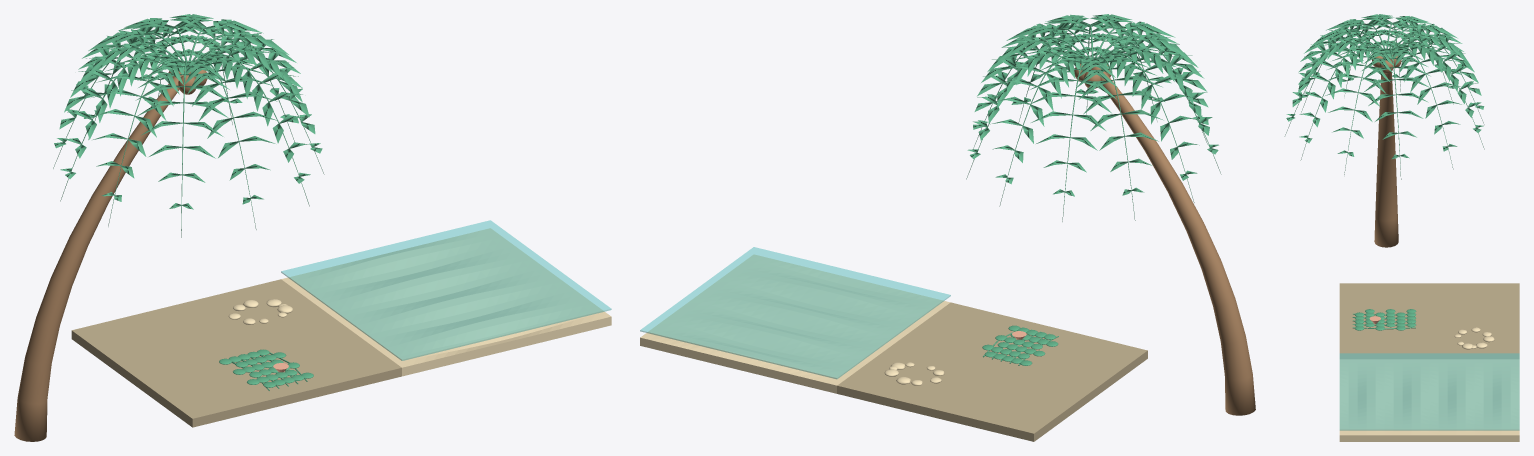
The model's file is beach.glb.
The picture shows the model from 3 angles, left to right: view 1: azimuth 30°, elevation 25°; view 2: azimuth 150°, elevation 25°; view 3: azimuth 270°, elevation 25°; orthographic projection. The views are drawn at different scales.
Visible parts, largest first — view 1: 001-lagoon-shallow-tile/0, 000-wet-sand-tile/0, 001-lagoon-shallow-tile/1, 002-coconut-palm-leaning/0, 002-coconut-palm-leaning/11, 002-coconut-palm-leaning/1, 002-coconut-palm-leaning/10, 002-coconut-palm-leaning/2, 002-coconut-palm-leaning/9, 002-coconut-palm-leaning/3, 002-coconut-palm-leaning/8, 002-coconut-palm-leaning/4 (+3 smaller); view 2: 001-lagoon-shallow-tile/0, 000-wet-sand-tile/0, 001-lagoon-shallow-tile/1, 002-coconut-palm-leaning/0, 002-coconut-palm-leaning/9, 002-coconut-palm-leaning/6, 002-coconut-palm-leaning/8, 002-coconut-palm-leaning/7, 002-coconut-palm-leaning/5, 002-coconut-palm-leaning/10, 002-coconut-palm-leaning/4, 002-coconut-palm-leaning/11 (+3 smaller); view 3: 001-lagoon-shallow-tile/0, 001-lagoon-shallow-tile/1, 000-wet-sand-tile/0, 002-coconut-palm-leaning/0, 002-coconut-palm-leaning/5, 002-coconut-palm-leaning/4, 002-coconut-palm-leaning/3, 002-coconut-palm-leaning/2, 002-coconut-palm-leaning/6, 002-coconut-palm-leaning/1, 002-coconut-palm-leaning/7, 002-coconut-palm-leaning/11 (+3 smaller).
Boxes of the visible parts, x1=… form: 001-lagoon-shallow-tile/0: x1=281, y1=228, x2=611, y2=376; 000-wet-sand-tile/0: x1=71, y1=279, x2=401, y2=427; 001-lagoon-shallow-tile/1: x1=281, y1=220, x2=611, y2=360; 002-coconut-palm-leaning/0: x1=14, y1=70, x2=190, y2=441; 002-coconut-palm-leaning/11: x1=135, y1=59, x2=231, y2=237; 002-coconut-palm-leaning/1: x1=183, y1=55, x2=278, y2=229; 002-coconut-palm-leaning/10: x1=91, y1=53, x2=185, y2=226; 002-coconut-palm-leaning/2: x1=197, y1=45, x2=310, y2=206; 002-coconut-palm-leaning/9: x1=60, y1=43, x2=177, y2=201; 002-coconut-palm-leaning/3: x1=195, y1=32, x2=324, y2=174; 002-coconut-palm-leaning/8: x1=53, y1=29, x2=180, y2=168; 002-coconut-palm-leaning/4: x1=190, y1=19, x2=302, y2=141; 001-lagoon-shallow-tile/0: x1=640, y1=254, x2=950, y2=393; 000-wet-sand-tile/0: x1=837, y1=302, x2=1147, y2=441; 001-lagoon-shallow-tile/1: x1=640, y1=247, x2=950, y2=379; 002-coconut-palm-leaning/0: x1=1090, y1=66, x2=1255, y2=415; 002-coconut-palm-leaning/9: x1=1102, y1=46, x2=1199, y2=202; 002-coconut-palm-leaning/6: x1=990, y1=47, x2=1087, y2=206; 002-coconut-palm-leaning/8: x1=1076, y1=54, x2=1164, y2=220; 002-coconut-palm-leaning/7: x1=1029, y1=55, x2=1117, y2=221; 002-coconut-palm-leaning/5: x1=966, y1=37, x2=1084, y2=179; 002-coconut-palm-leaning/10: x1=1101, y1=35, x2=1221, y2=174; 002-coconut-palm-leaning/4: x1=973, y1=23, x2=1087, y2=148; 002-coconut-palm-leaning/11: x1=1097, y1=21, x2=1208, y2=144; 001-lagoon-shallow-tile/0: x1=1339, y1=359, x2=1519, y2=441; 001-lagoon-shallow-tile/1: x1=1339, y1=353, x2=1519, y2=430; 000-wet-sand-tile/0: x1=1339, y1=283, x2=1519, y2=359; 002-coconut-palm-leaning/0: x1=1374, y1=57, x2=1398, y2=247; 002-coconut-palm-leaning/5: x1=1389, y1=42, x2=1463, y2=169; 002-coconut-palm-leaning/4: x1=1361, y1=47, x2=1430, y2=179; 002-coconut-palm-leaning/3: x1=1324, y1=45, x2=1393, y2=174; 002-coconut-palm-leaning/2: x1=1299, y1=39, x2=1379, y2=160; 002-coconut-palm-leaning/6: x1=1394, y1=34, x2=1484, y2=149; 002-coconut-palm-leaning/1: x1=1284, y1=29, x2=1380, y2=136; 002-coconut-palm-leaning/7: x1=1391, y1=23, x2=1484, y2=124; 002-coconut-palm-leaning/11: x1=1298, y1=19, x2=1383, y2=112.
Bounding box in the file's own units: 10.76 × 6.46 × 5.22.
